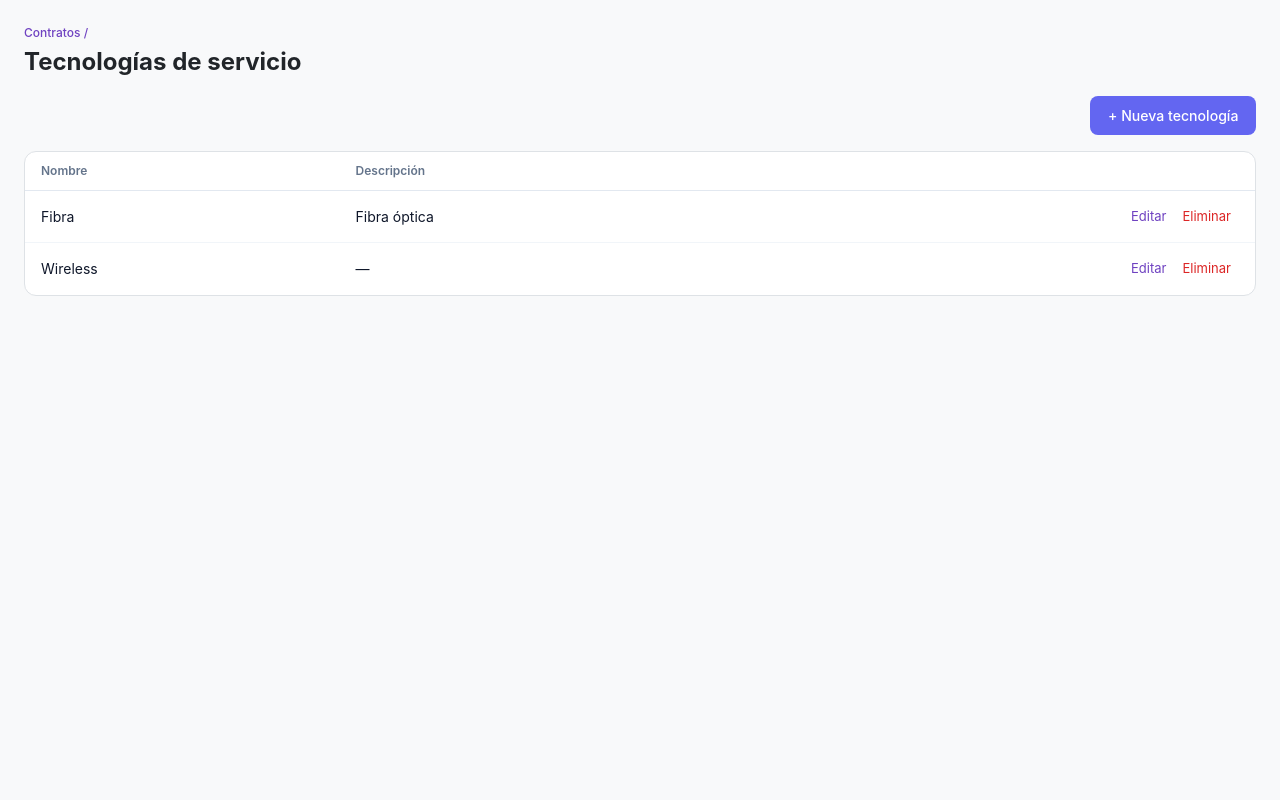
Test: CP-7.4: edit technology › opens edit modal with pre-filled name
Expected: the row "Fibra Fibra óptica Editar Eliminar" is shown, x1=25 y1=190 x2=1255 y2=243
Click the button "Editar" in the row of "Fibra óptica". click: (1149, 216)
box: x1=1123 y1=203 x2=1174 y2=230
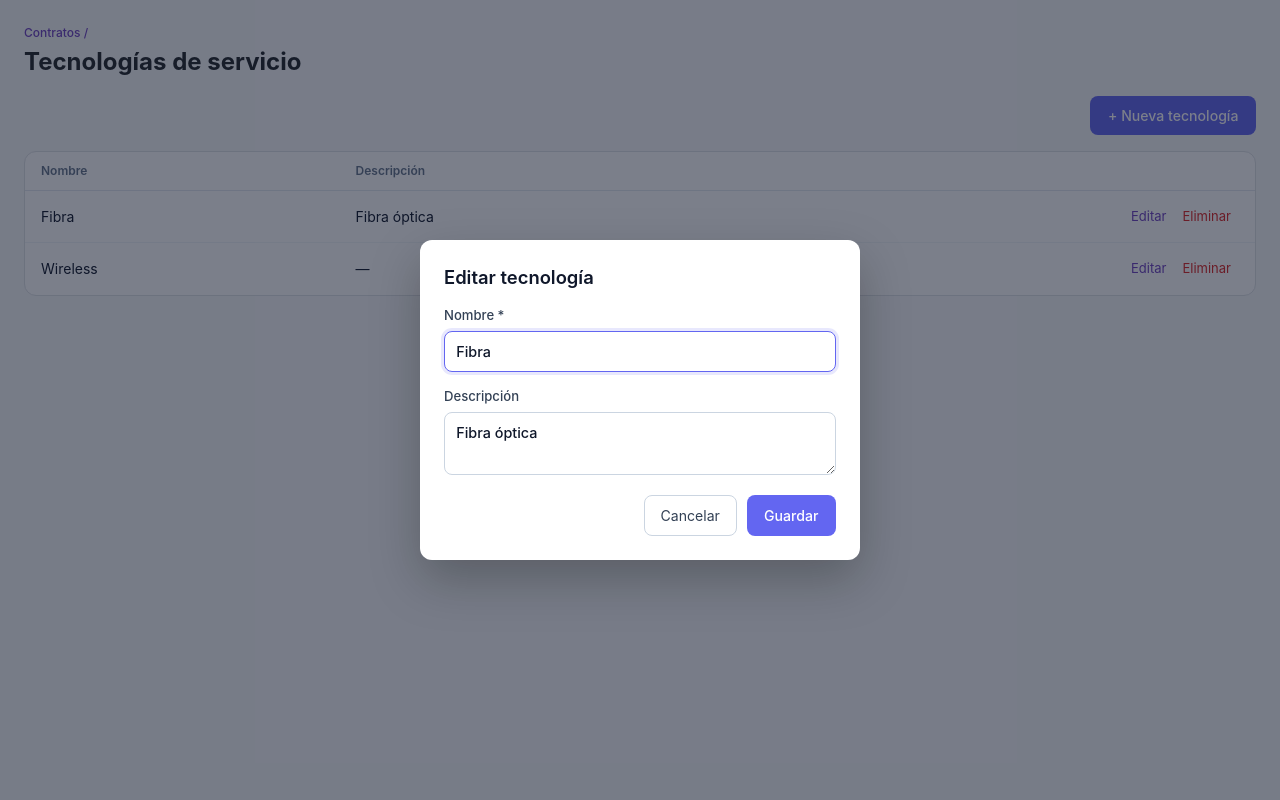
Expected: the field showing "Fibra" is shown, x1=444 y1=331 x2=836 y2=372
